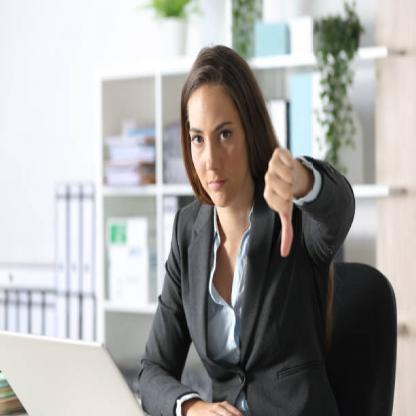thumb_down: (262, 142, 302, 261)
